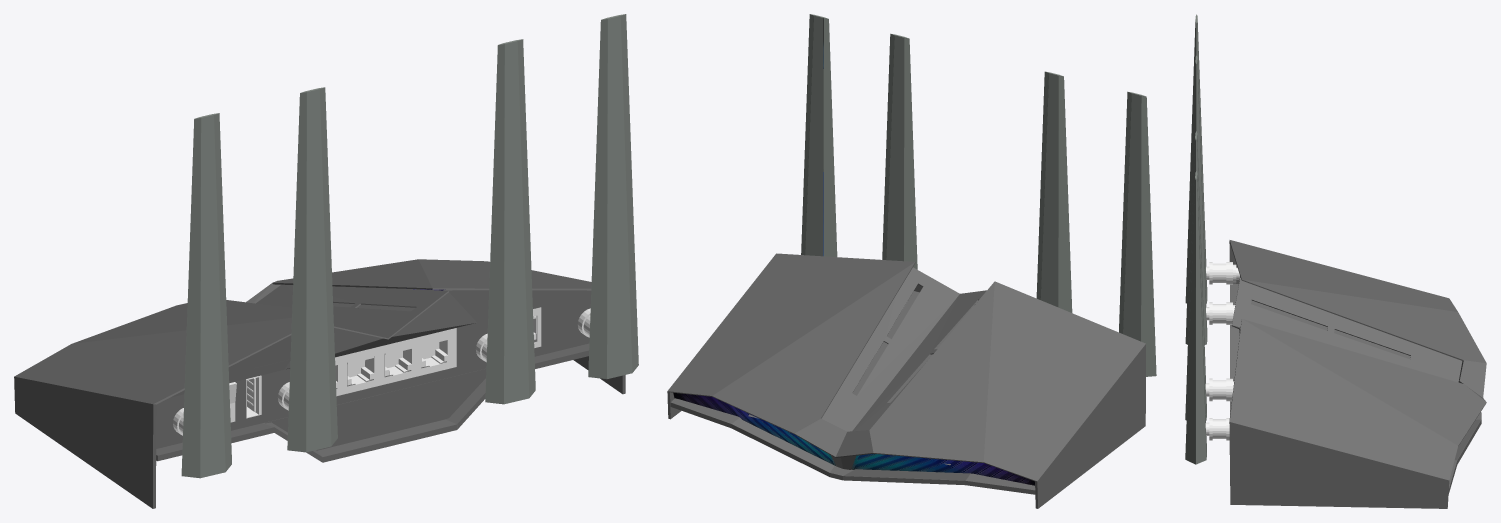
The model's file is scifirouter.glb.
3 views of the same model, side by side, from view 1: azimuth 30°, elevation 25°; view 2: azimuth 150°, elevation 25°; view 3: azimuth 270°, elevation 25° (orthographic). The views are drawn at different scales.
Parts seen in each view (by area): view 1: Case, Antennas_4, Ethernet_Covers, Socket, Connectors_; view 2: Case, Antennas_4, Face_Plate; view 3: Case, Antennas_4, Connectors_.
Part boxes in pixels (<box>): Case: <box>14,259,625,508</box>; Antennas_4: <box>181,14,638,478</box>; Ethernet_Covers: <box>335,307,541,396</box>; Socket: <box>335,316,536,385</box>; Connectors_: <box>173,308,590,435</box>; Case: <box>667,253,1145,508</box>; Antennas_4: <box>801,14,1156,376</box>; Face_Plate: <box>673,18,1034,485</box>; Case: <box>1229,240,1486,508</box>; Antennas_4: <box>1185,14,1207,464</box>; Connectors_: <box>1205,262,1239,440</box>.
Bounding box in the file's own units: 17.11 × 14.16 × 11.97.
Materials: 12 (1 with a texture image).
